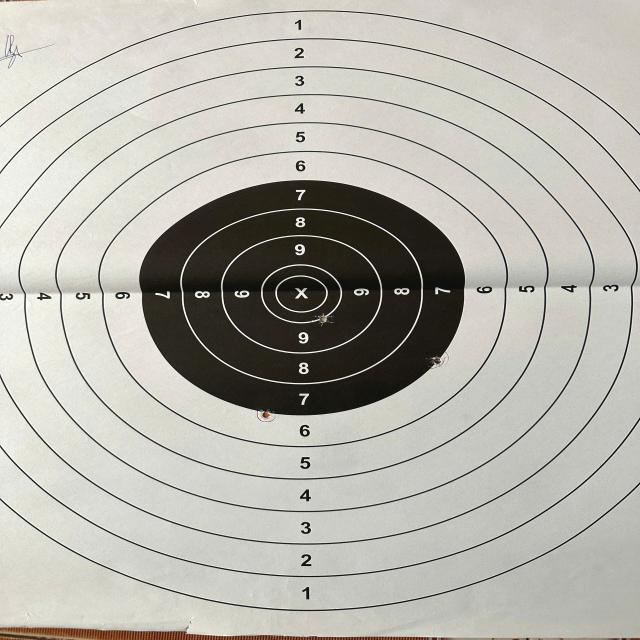bullet: (432, 356, 443, 368), (316, 316, 328, 324), (261, 412, 268, 420)
target: (4, 0, 628, 636)
